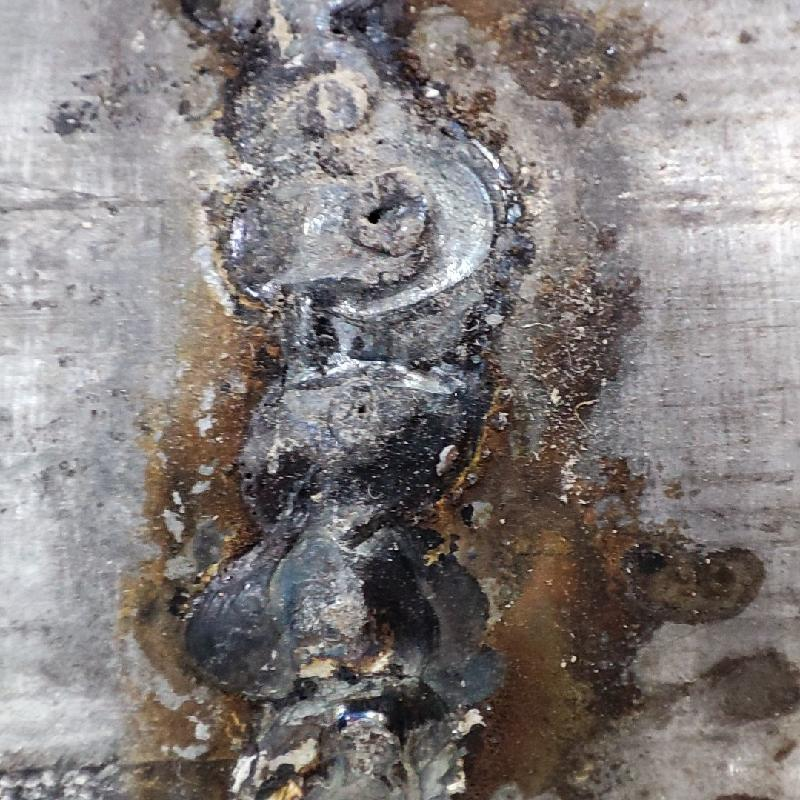Not_fully_soldered: (182, 6, 493, 790)
Surface_pores: (344, 178, 425, 251), (339, 381, 386, 431)
